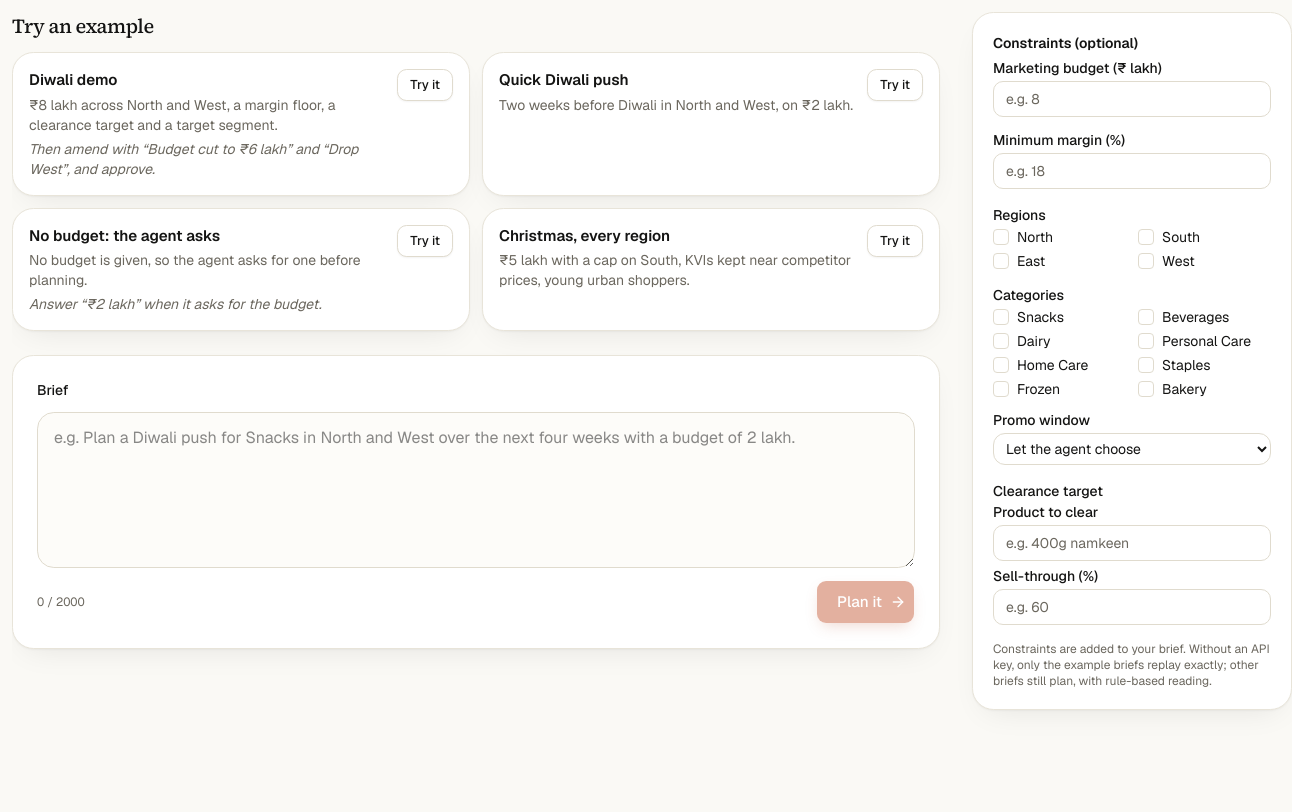
Test: BriefComposer › shows why the session could not start and stays on the page
Step 1. Replace the text in the text box labelled "Brief" with "Diwali push" → (476,490), box [37,412,915,568]
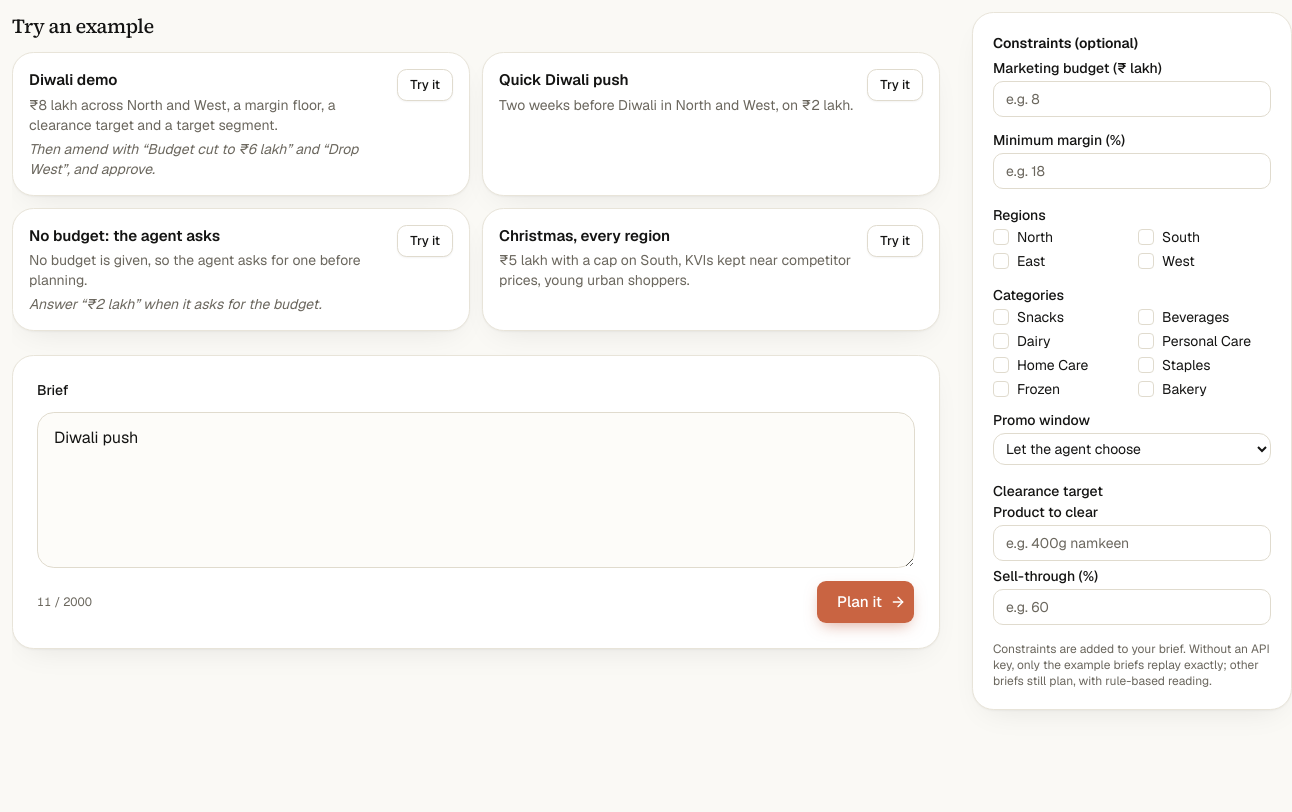
Step 2. Click the button "Plan it" → (866,602), box [816,580,915,624]
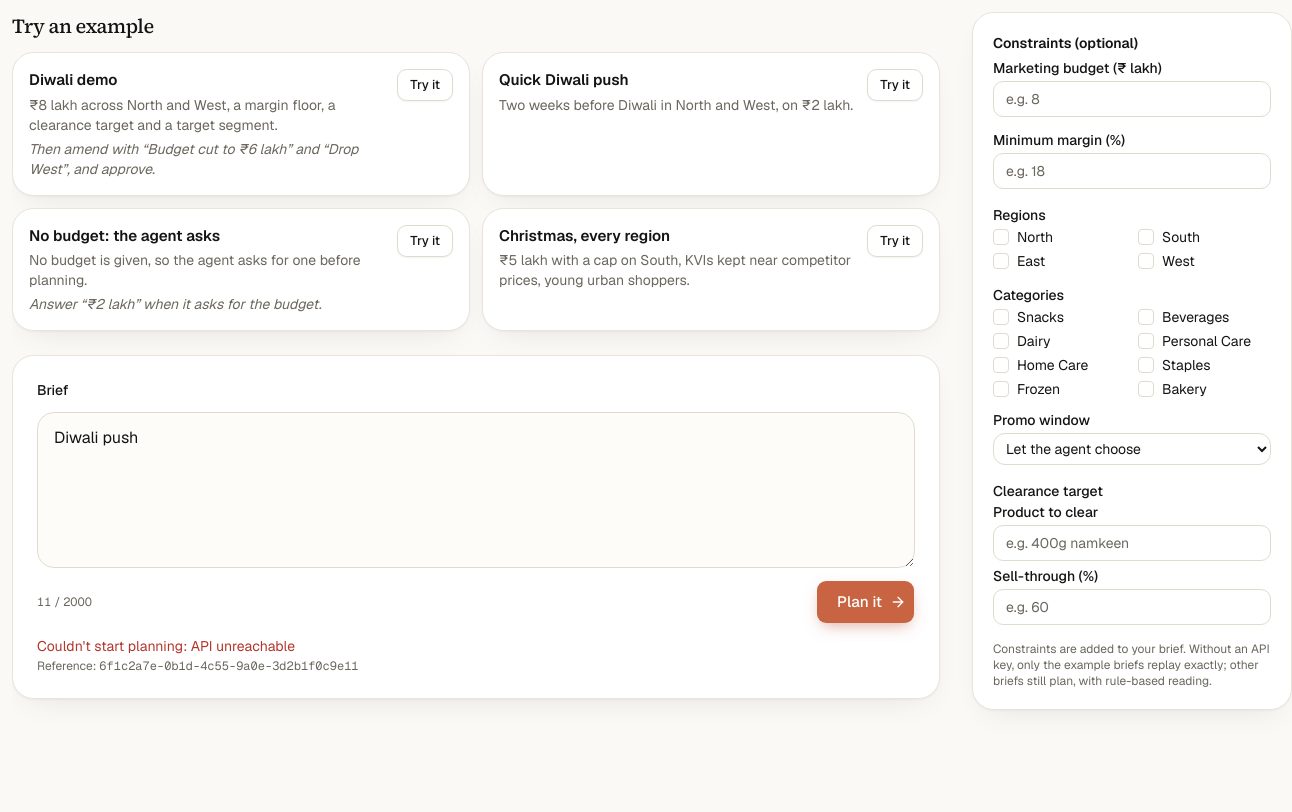
Result: the button "Plan it" is enabled at [816,580,915,624]
Result: the message shows "Couldn't start planning: API unreachable" at [37,637,295,655]
